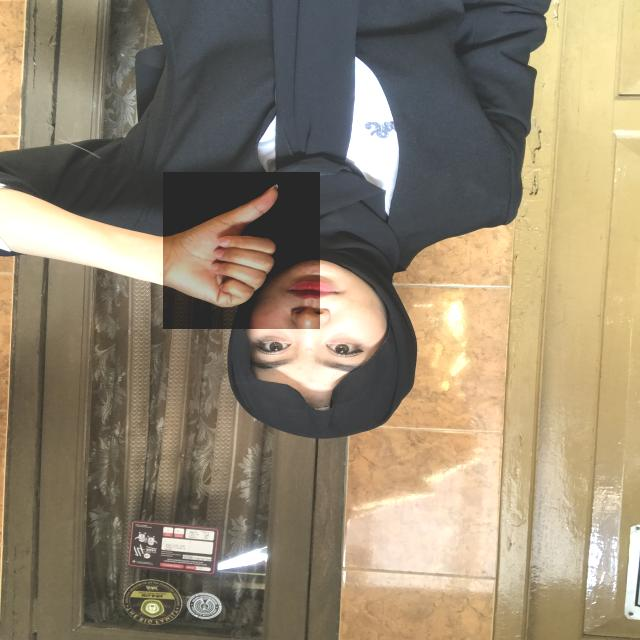sedih: (163, 172, 320, 329)
